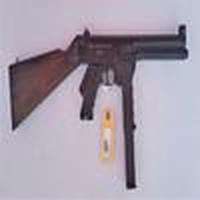gun: (5, 22, 199, 130)
